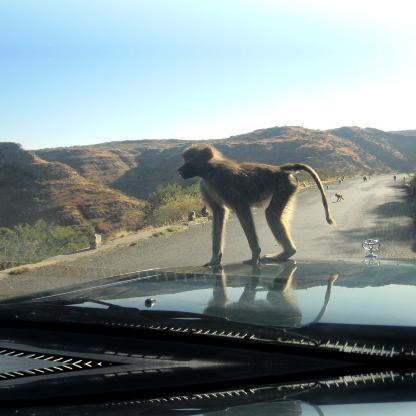Monkey: (172, 145, 340, 271)
